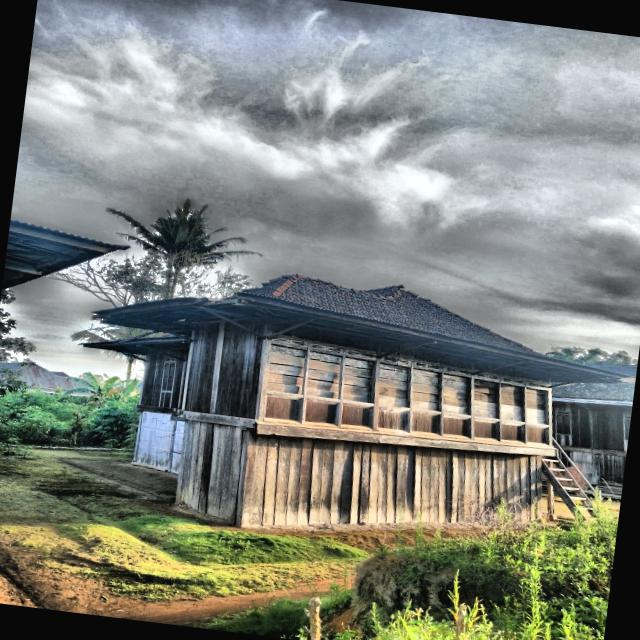ornamen: (264, 393, 303, 423), (303, 397, 339, 426), (340, 402, 374, 430), (376, 406, 410, 433), (411, 410, 441, 436), (443, 414, 471, 439), (474, 418, 499, 441), (501, 421, 525, 443), (526, 424, 549, 446)
roof: (94, 274, 621, 383), (2, 219, 127, 288), (552, 365, 637, 405), (80, 334, 188, 358), (0, 362, 83, 392)
stair: (541, 436, 597, 517)
wall: (234, 429, 541, 527), (262, 326, 376, 432), (377, 348, 471, 440), (474, 366, 549, 446), (214, 322, 263, 419), (551, 400, 632, 452), (205, 423, 241, 523), (184, 322, 219, 413), (174, 419, 206, 512), (140, 352, 183, 409), (135, 411, 173, 469), (562, 450, 626, 483)
window: (159, 359, 175, 408), (556, 414, 570, 434), (624, 417, 631, 440)
